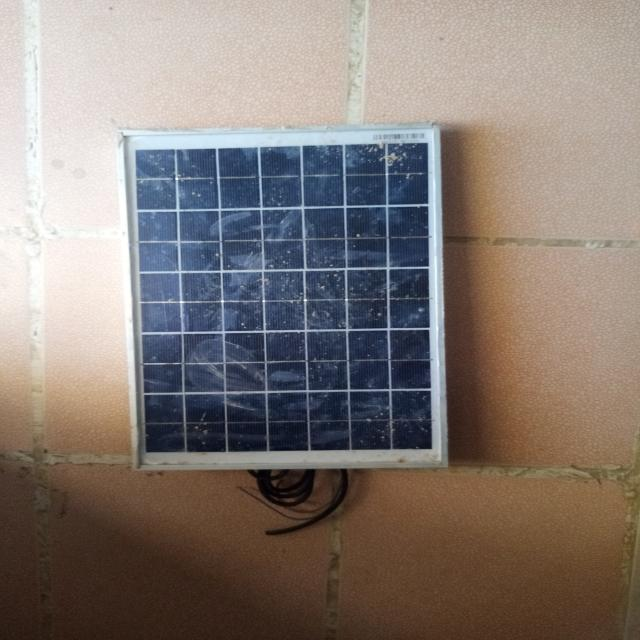faulty: (119, 126, 445, 469)
